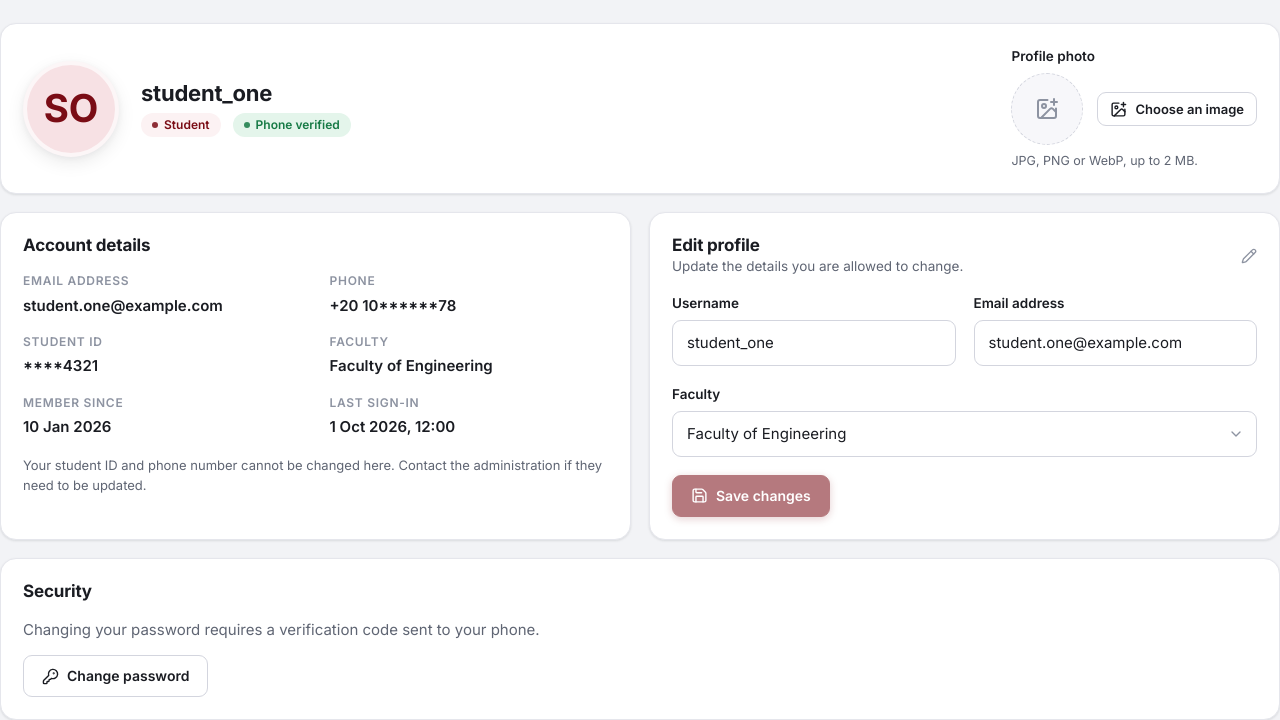
it: Profile page › changes the password only after the SMS code is confirmed
(page scrolled)
Click the button "Change password" at (116, 676), box [23, 655, 208, 697]
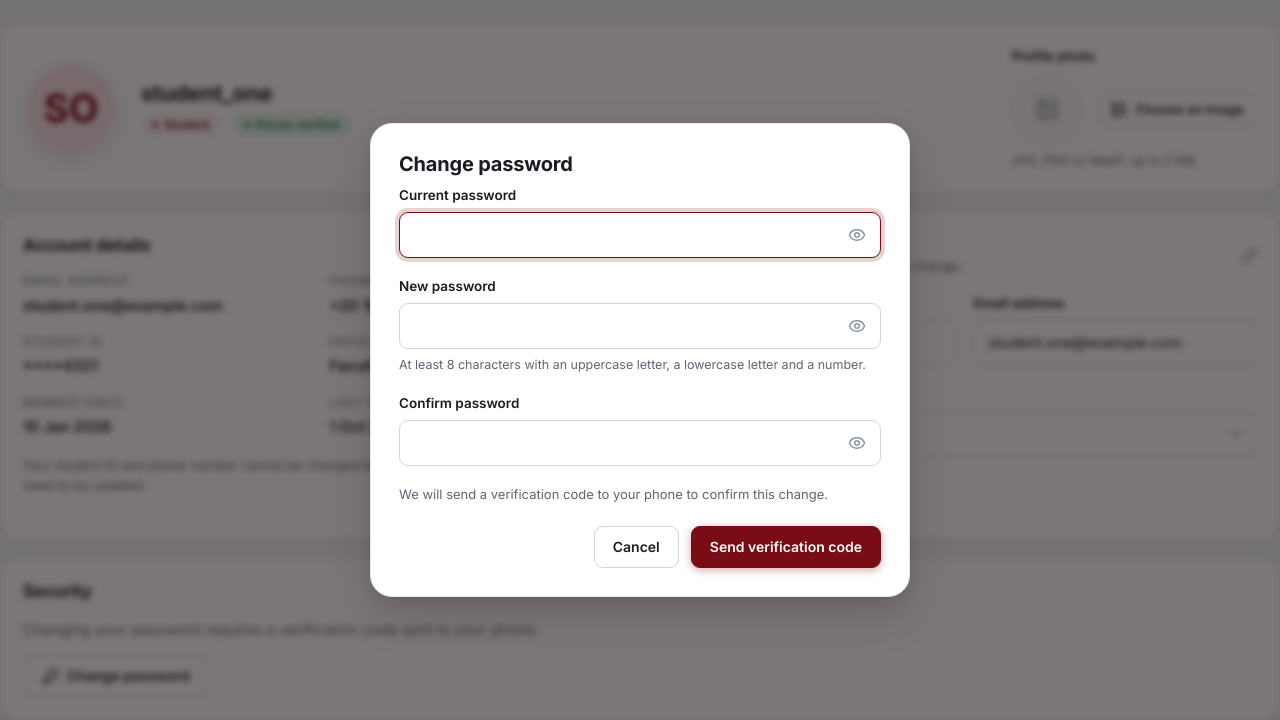
Type "OldPassw0rd" into the password field labelled "Current password" at (640, 235), box [399, 212, 881, 258]
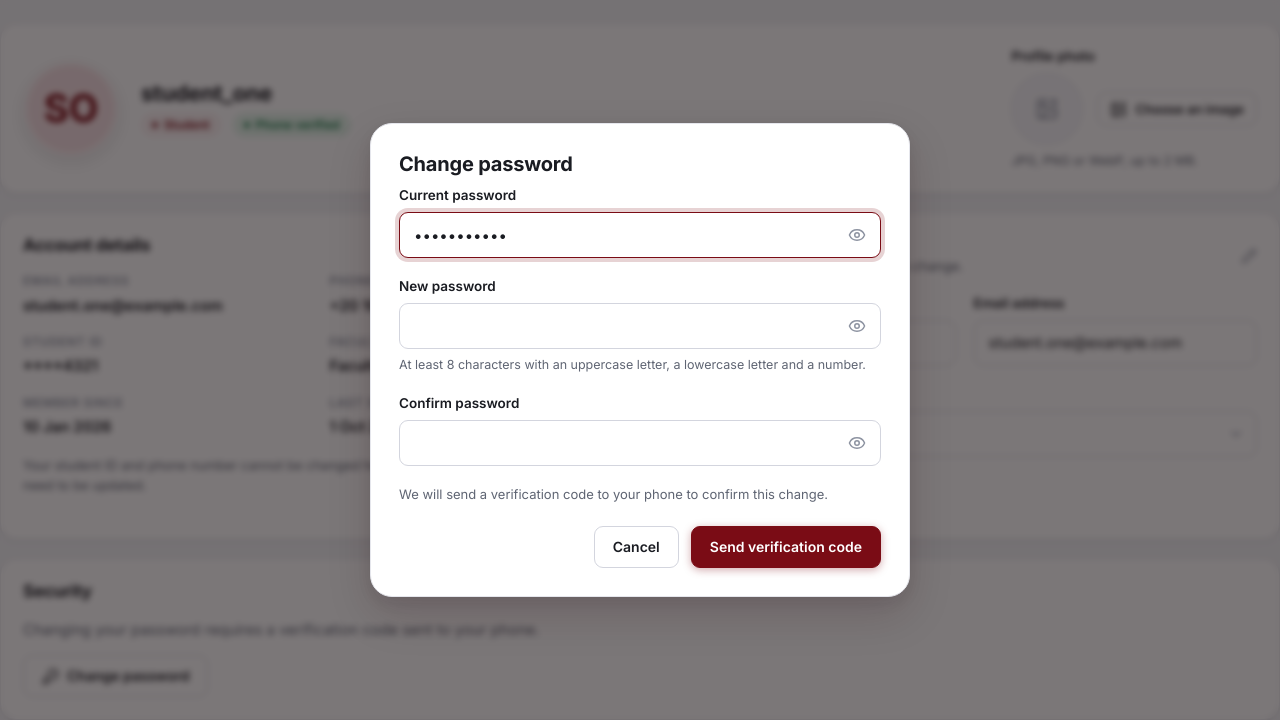
Type "NewPassw0rd" into the password field labelled "New password" at (640, 326), box [399, 303, 881, 349]
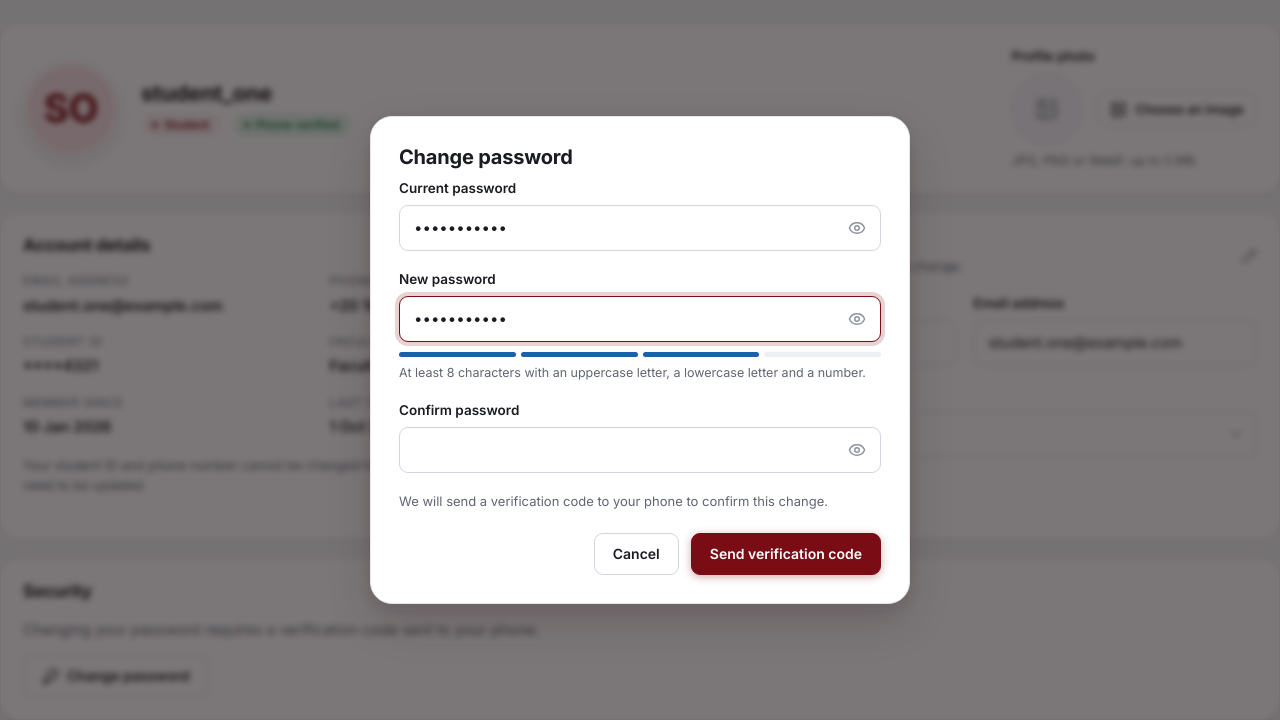
Type "NewPassw0rd" into the password field labelled "Confirm password" at (640, 450), box [399, 427, 881, 473]
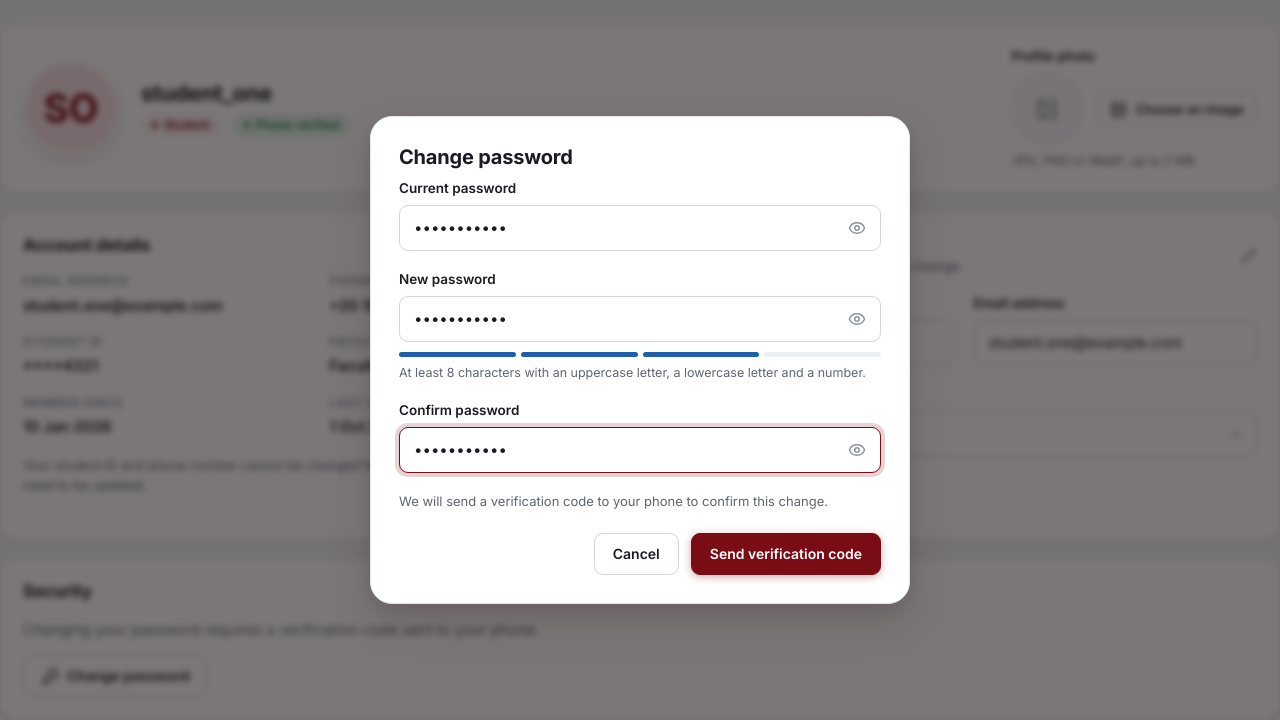
Click the button "Send verification code" at (786, 554), box [691, 533, 881, 575]
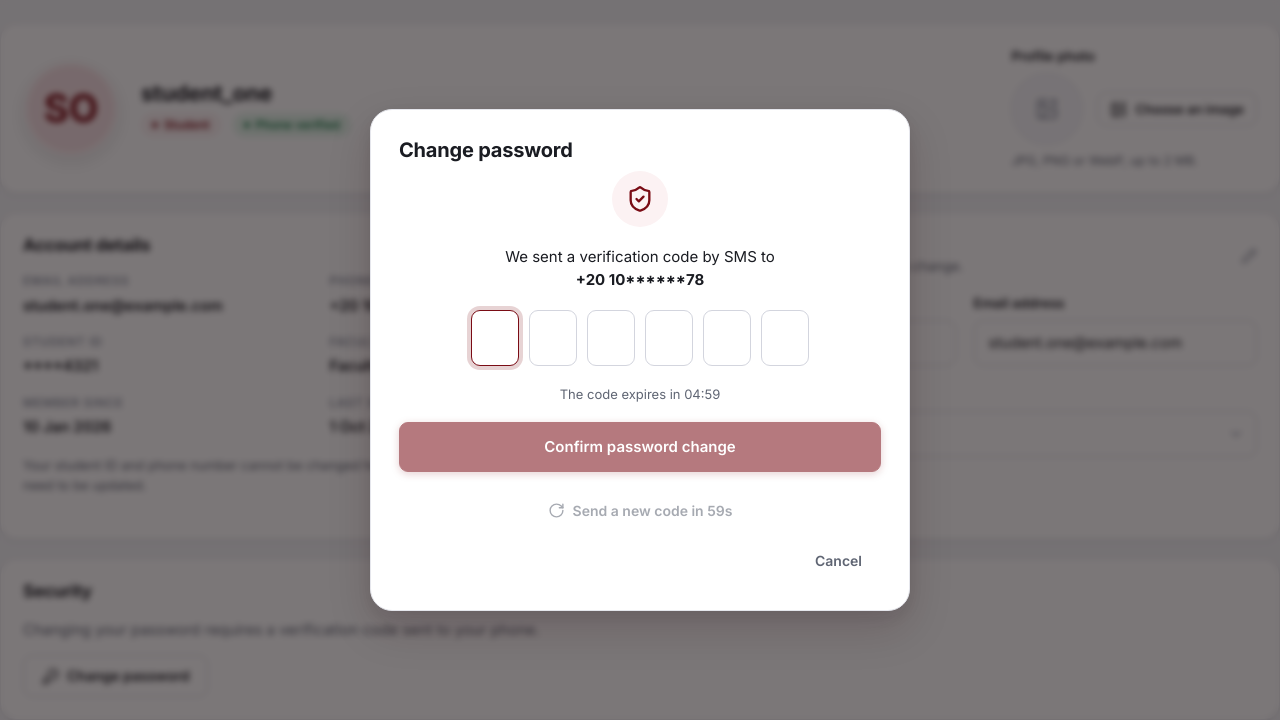
Expected: the text "+20 10******78" is shown, [576, 270, 704, 289]
Type keys "654321"
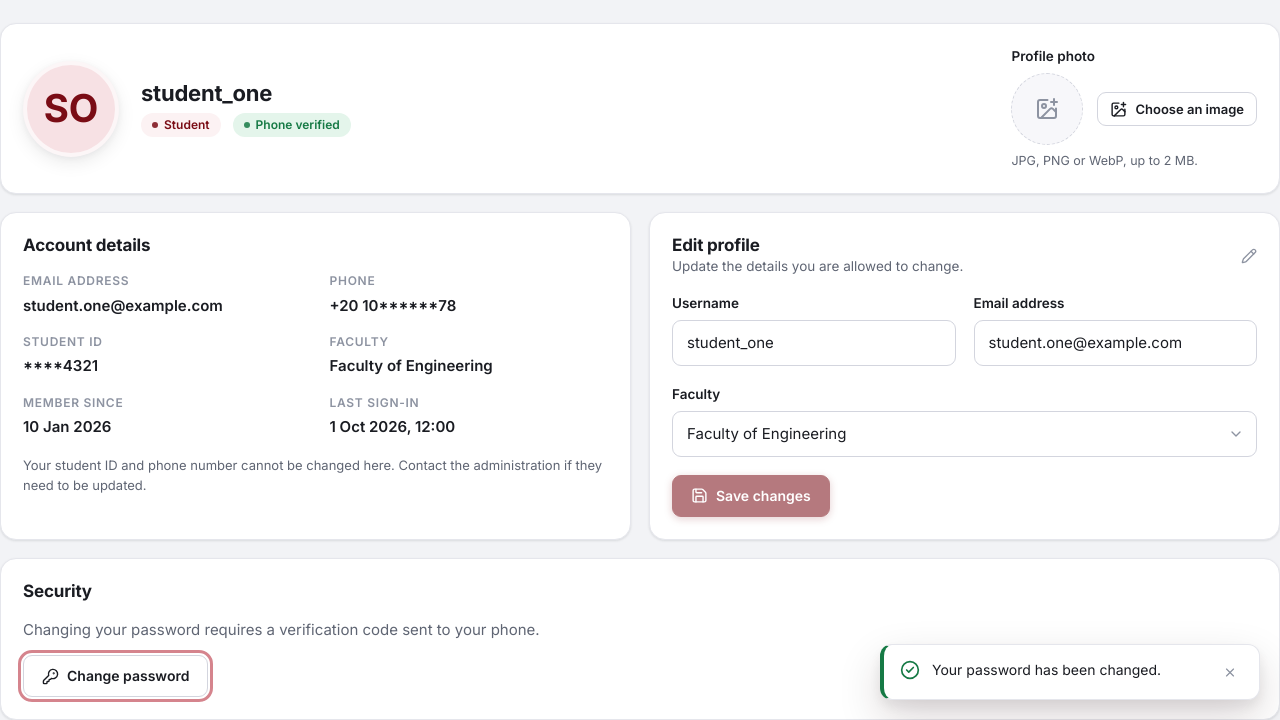
Expected: the text "Your password has been changed." is shown, [932, 661, 1161, 678]
Expected: the dialog is gone
